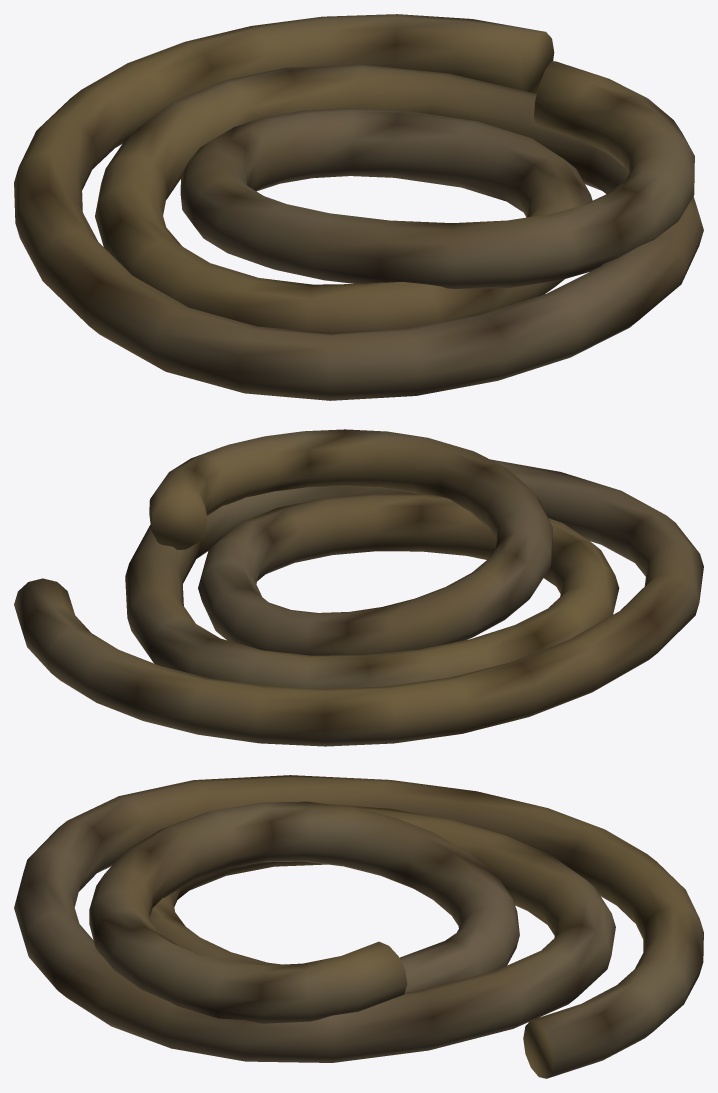
Rendered from rope.glb.
3 views of the same model, one above another, from view 1: azimuth 30°, elevation 25°; view 2: azimuth 150°, elevation 25°; view 3: azimuth 270°, elevation 25° (orthographic). The views are drawn at different scales.
Visible parts, largest first — view 1: rope; view 2: rope; view 3: rope.
Part boxes in pixels (<box>): rope: <box>14,14,703,400</box>; rope: <box>14,429,703,746</box>; rope: <box>14,775,703,1078</box>.
Bounding box in the file's own units: 0.5574 × 0.0979 × 0.6063.
